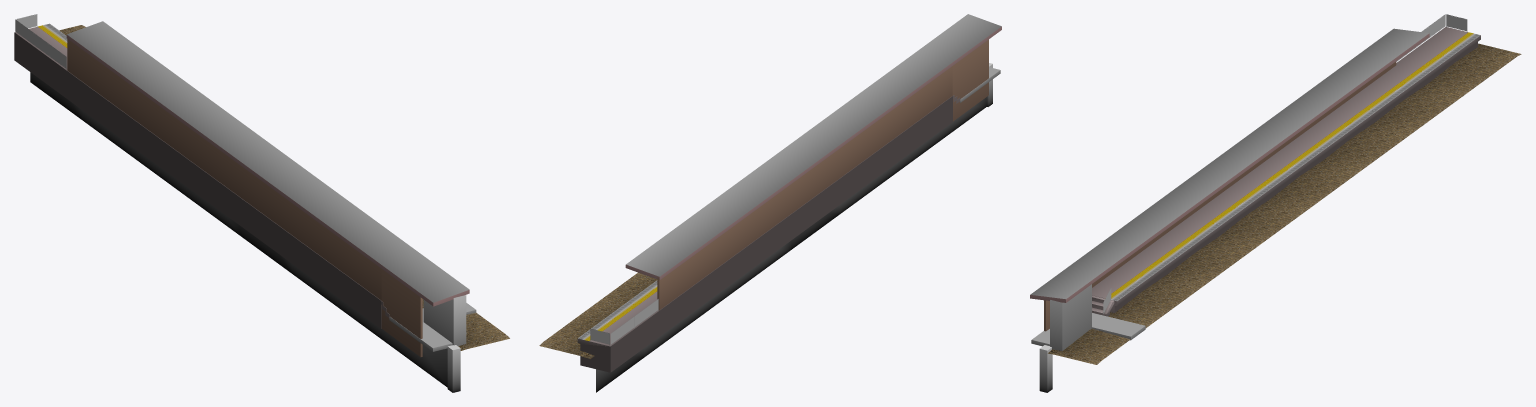
3 views of the same model, side by side, from view 1: azimuth 30°, elevation 25°; view 2: azimuth 150°, elevation 25°; view 3: azimuth 330°, elevation 25° (orthographic). The views are drawn at different scales.
Parts seen in each view (by area): view 1: Model, Null_111111113, Null_12; view 2: Model, Null_12; view 3: Model, Null_111111113, Null_12.
Boxes of the visible parts, <box> form: Model: <box>14,21,509,392</box>; Null_111111113: <box>389,295,476,351</box>; Null_12: <box>15,14,66,69</box>; Model: <box>539,14,1001,392</box>; Null_12: <box>590,299,658,345</box>; Model: <box>1030,27,1521,392</box>; Null_111111113: <box>1031,284,1145,350</box>; Null_12: <box>1396,14,1467,61</box>.
Bounding box in the file's own units: 19.89 × 24.84 × 205.
37 materials, 5 textured.
